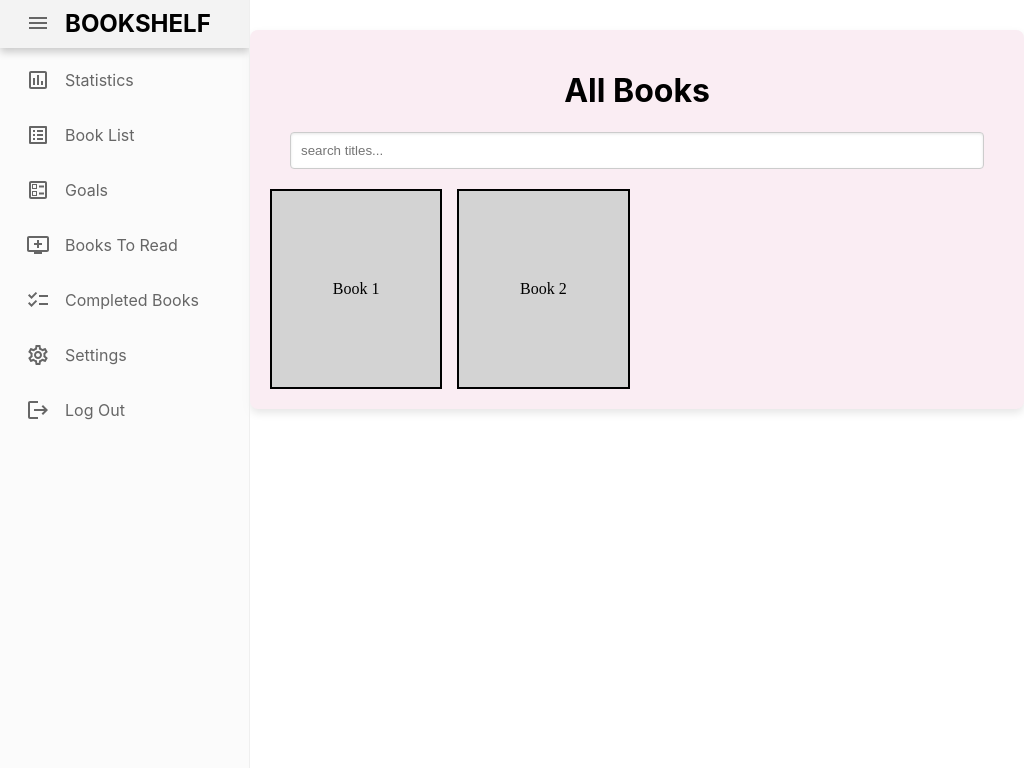
BookList › filters books based on search query
The image size is (1024, 768).
Expected: the text "Book 1" is shown, [333,280,380,298]
Type "Book 1" into the field with placeholder "search titles...".
click(637, 150); type("Book 1")  # box [290,132,984,169]
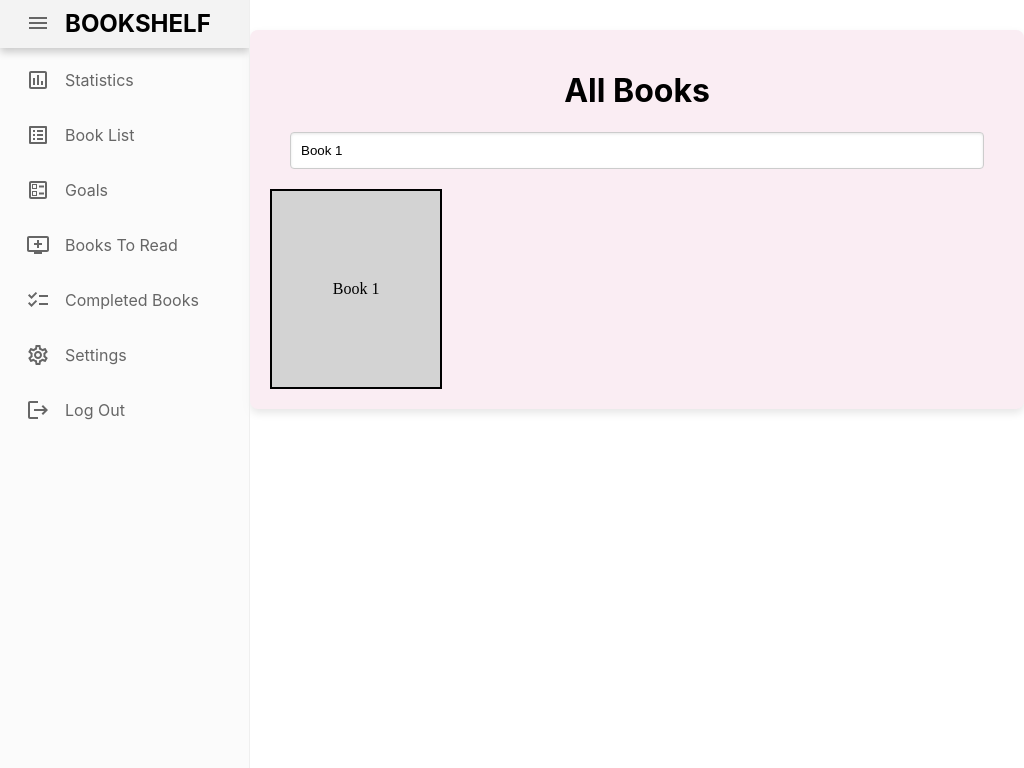
Expected: the text "Book 1" is shown, [333,280,380,298]
Expected: the link "Book 2" is gone
